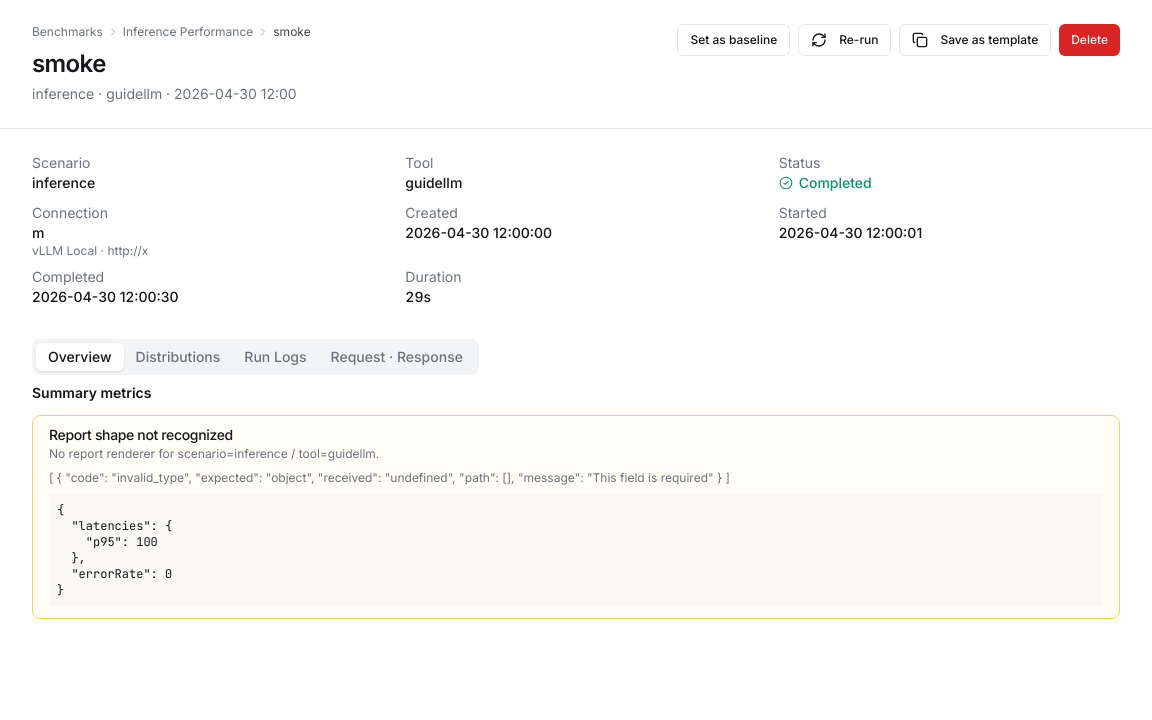
Test case: BenchmarkDetailPage › shows stderr in the Run Logs tab for a completed run that logged only to stderr
Expected: the heading "smoke" is shown, [32,49,106,78]
What coordinates should you click on to do the following:
click the tab "Run Logs"
I would click on:
 (275, 357)
Its box is [232,343,318,371].
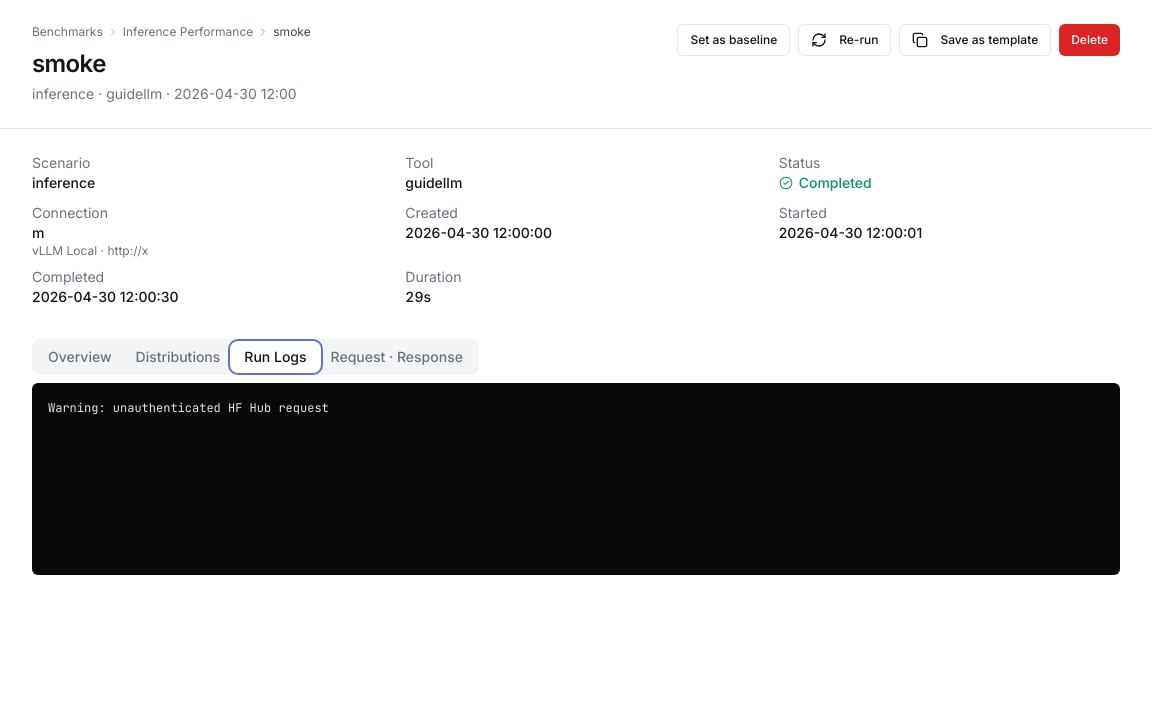
Expected: the text "Warning: unauthenticated HF Hub request" is shown, [32,383,1120,575]
